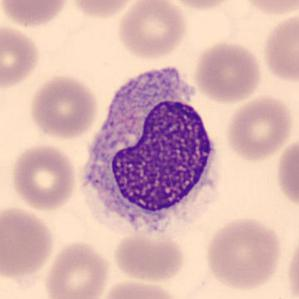Monocyte: (76, 56, 225, 240)
RBC: (203, 214, 284, 292), (8, 142, 79, 213), (26, 73, 100, 141), (223, 94, 295, 162), (192, 38, 264, 104), (114, 0, 190, 61), (111, 226, 187, 284), (0, 204, 57, 280), (42, 238, 112, 299), (0, 22, 43, 92), (260, 11, 298, 85), (0, 0, 72, 29), (95, 276, 182, 299), (274, 134, 298, 213), (67, 0, 142, 21), (237, 0, 298, 17), (284, 230, 299, 299), (163, 0, 237, 12)
